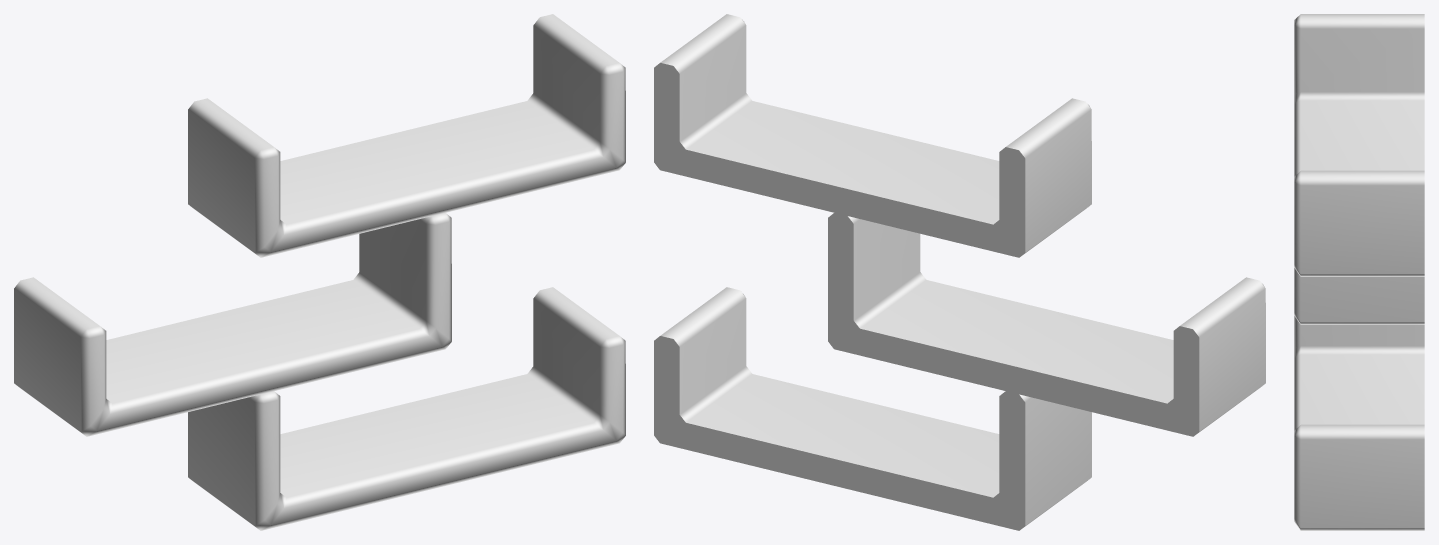
Rendered from shelf_005.fbx.
The picture shows the model from 3 angles, left to right: view 1: azimuth 30°, elevation 25°; view 2: azimuth 150°, elevation 25°; view 3: azimuth 270°, elevation 25°; orthographic projection. The views are drawn at different scales.
Visible parts, largest first — view 1: shelf_005; view 2: shelf_005; view 3: shelf_005.
Part boxes in pixels (x1,y1,x2,y2): shelf_005: (14,14,625,530); shelf_005: (654,14,1265,530); shelf_005: (1294,14,1424,530).
Bounding box in the file's own units: 142 × 31.7 × 94.9.
